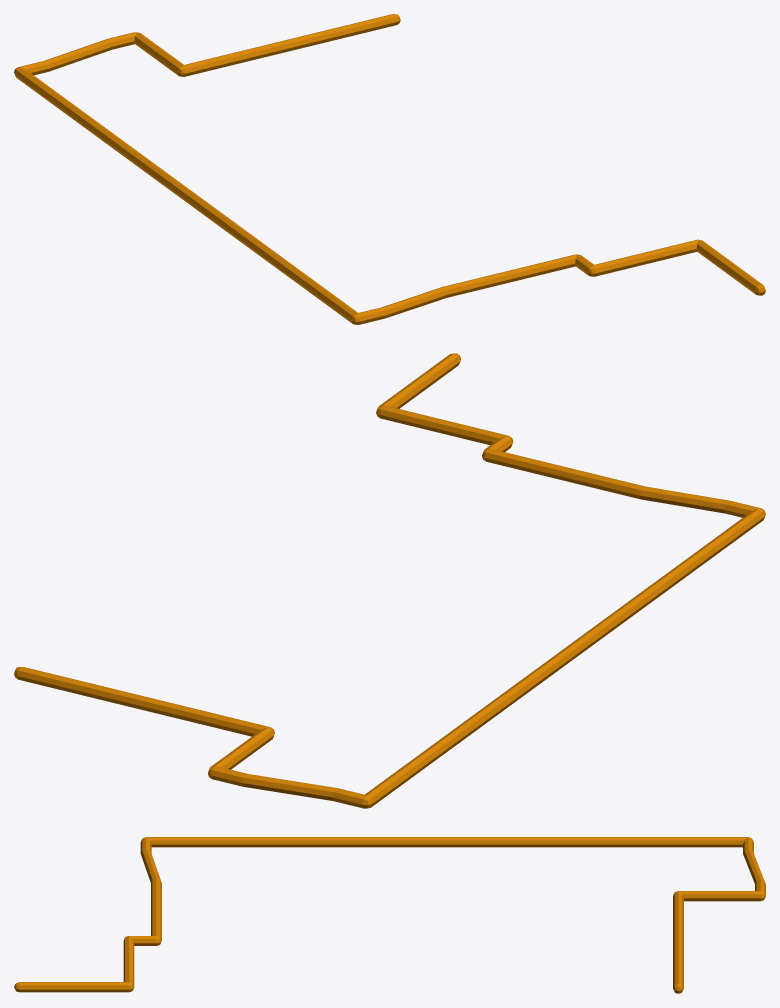
3 renders of one model, top to bottom at view 1: azimuth 30°, elevation 25°; view 2: azimuth 150°, elevation 25°; view 3: azimuth 270°, elevation 25°, orthographic. The views are drawn at different scales.
Bounding box in the file's own units: 653 × 20 × 1373.
